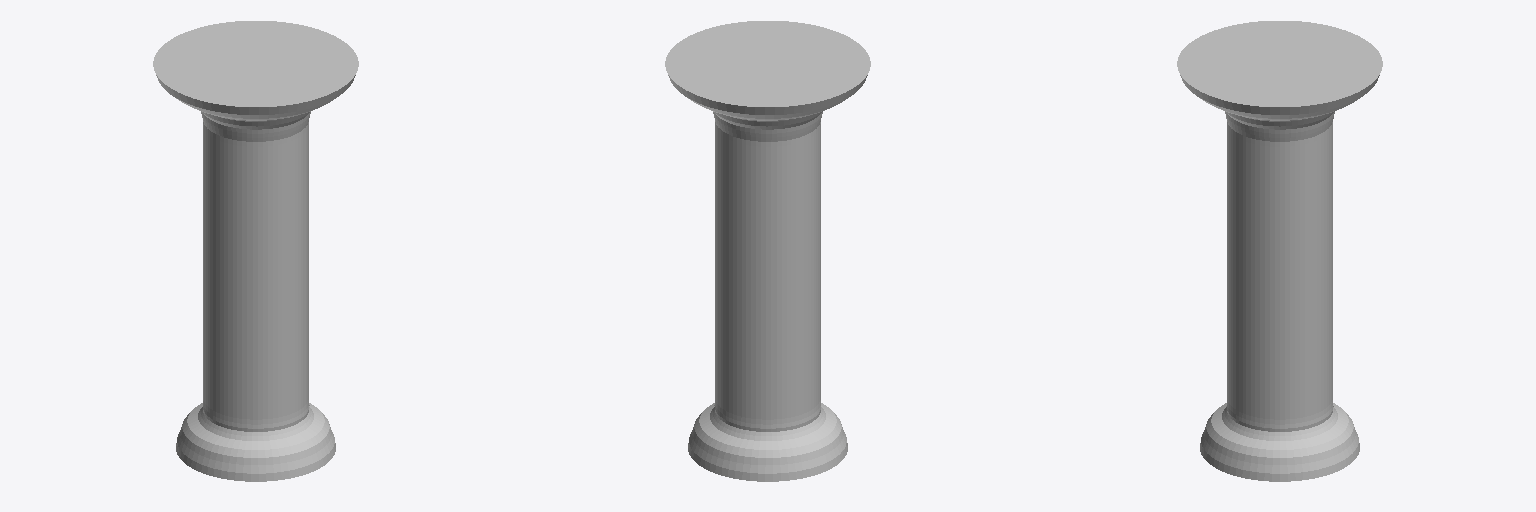
Rendered from pillar.obj.
3 renders of one model, left to right at view 1: azimuth 30°, elevation 25°; view 2: azimuth 150°, elevation 25°; view 3: azimuth 270°, elevation 25°, orthographic.
Visible parts, largest first — view 1: Cylinder; view 2: Cylinder; view 3: Cylinder.
Boxes of the visible parts, <box> form: Cylinder: <box>153,21,358,481</box>; Cylinder: <box>665,21,870,481</box>; Cylinder: <box>1177,21,1382,481</box>.
Size of the model in its own units: 3.89 by 8 by 3.89.